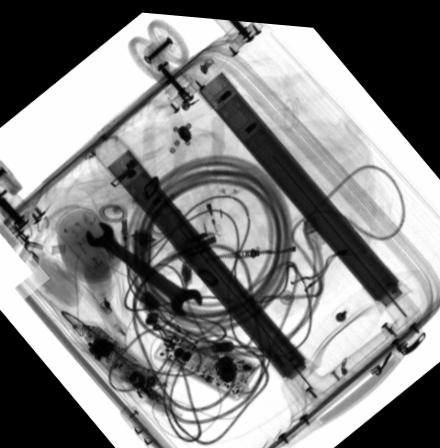Wrench: (85, 217, 203, 312)
